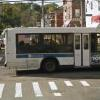Bus: (4, 19, 100, 76)
